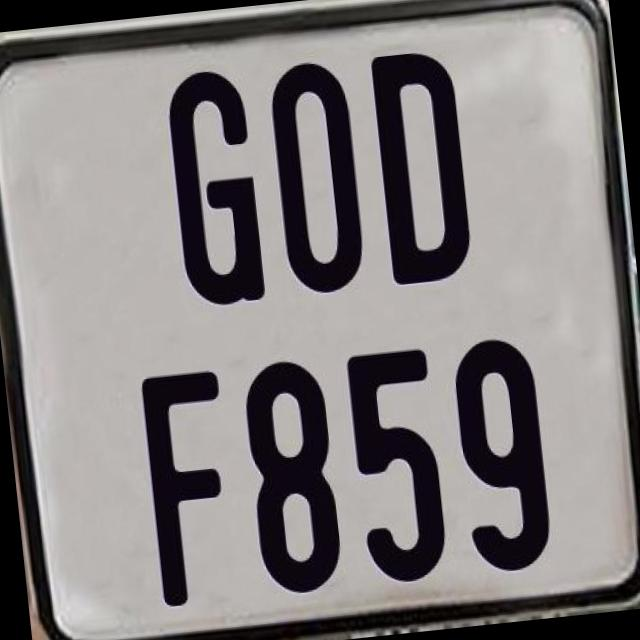0: (262, 55, 369, 298)
5: (341, 346, 446, 592)
8: (238, 352, 343, 602)
9: (448, 334, 558, 580)
D: (367, 47, 475, 288)
F: (138, 368, 246, 608)
G: (164, 63, 272, 310)
